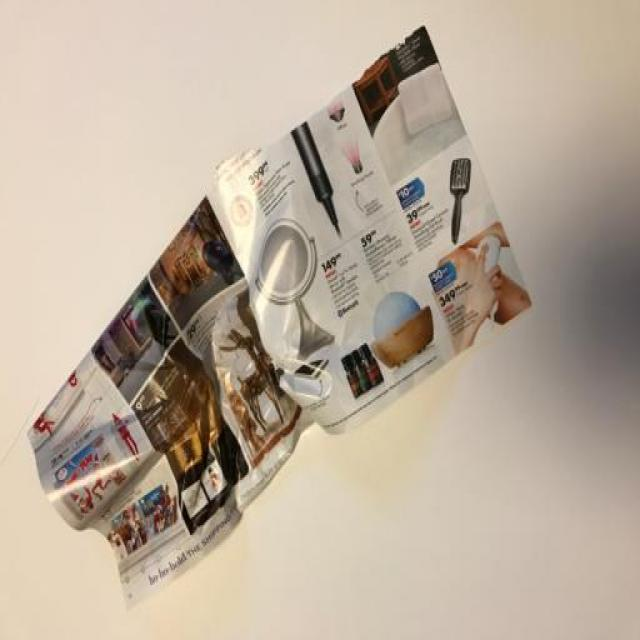paper: (22, 21, 537, 566)
